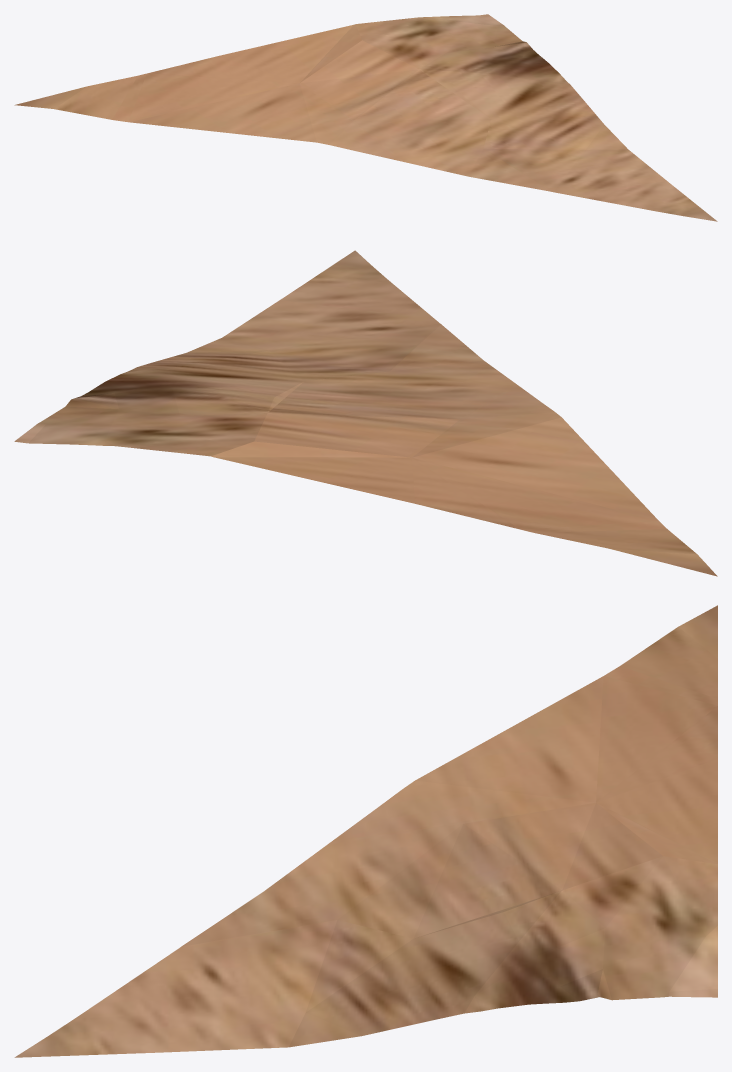
3 renders of one model, top to bottom at view 1: azimuth 30°, elevation 25°; view 2: azimuth 150°, elevation 25°; view 3: azimuth 270°, elevation 25°, orthographic. The views are drawn at different scales.
Size of the model in its own units: 1.97 by 0.2579 by 1.65.
Materials: 1 (1 with a texture image).
